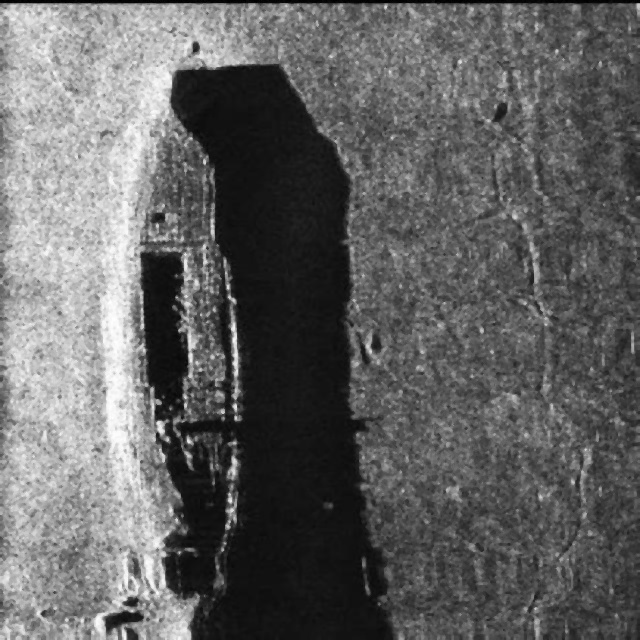Ship: (96, 59, 263, 640)
